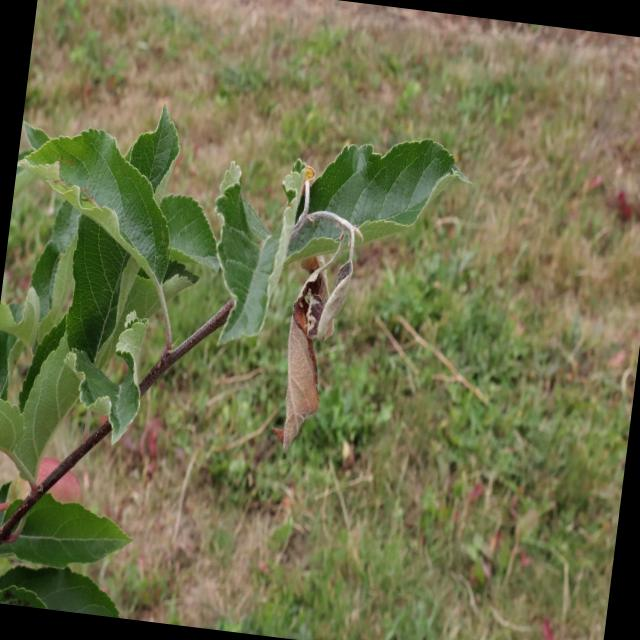-FireBlight-: (270, 204, 352, 445)
